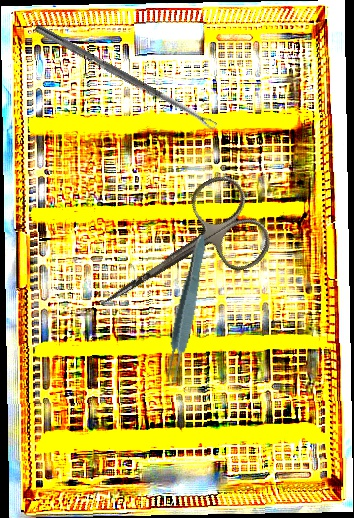Iris Scissors: (74, 167, 280, 345)
Surgical Spoon: (33, 23, 218, 132)
Tissue Forceps: (160, 233, 212, 386)
